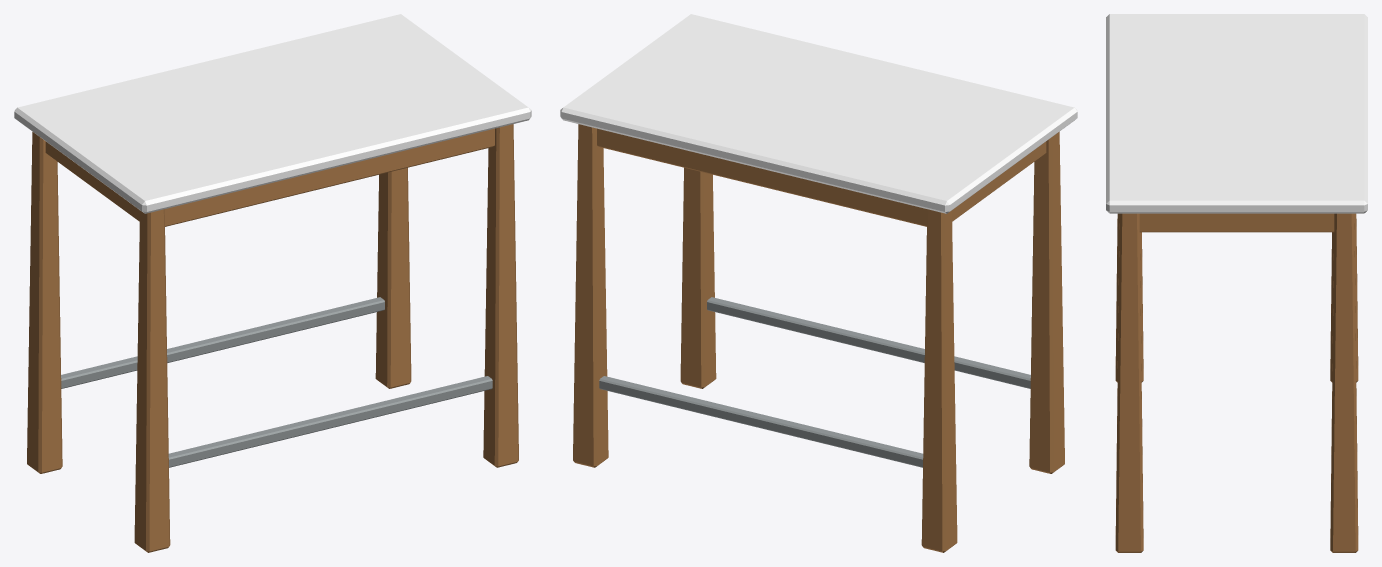
The model's file is table-bar-high.glb.
3 renders of one model, left to right at view 1: azimuth 30°, elevation 25°; view 2: azimuth 150°, elevation 25°; view 3: azimuth 270°, elevation 25°, orthographic.
Visible parts, largest first — view 1: table-bar-high.tint, table-bar-high.wood, table-bar-high.metal; view 2: table-bar-high.tint, table-bar-high.wood, table-bar-high.metal; view 3: table-bar-high.tint, table-bar-high.wood.
Boxes of the visible parts, box(x1,y1,x2,y2) form: table-bar-high.tint: box(14, 14, 531, 213); table-bar-high.wood: box(27, 124, 518, 552); table-bar-high.metal: box(61, 297, 492, 467); table-bar-high.tint: box(560, 14, 1077, 213); table-bar-high.wood: box(573, 124, 1064, 552); table-bar-high.metal: box(599, 297, 1030, 467); table-bar-high.tint: box(1106, 14, 1367, 213); table-bar-high.wood: box(1115, 213, 1358, 552).
Bounding box in the file's own units: 1.2 × 1.05 × 0.7.
